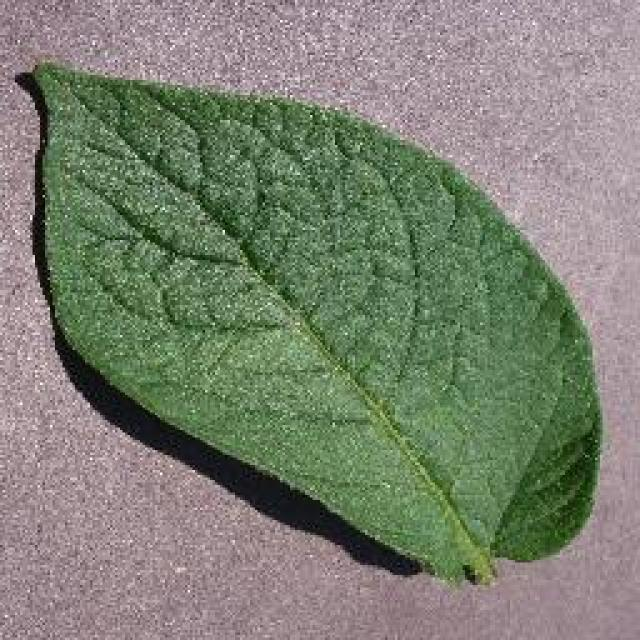Potato___healthy: (27, 60, 605, 593)
